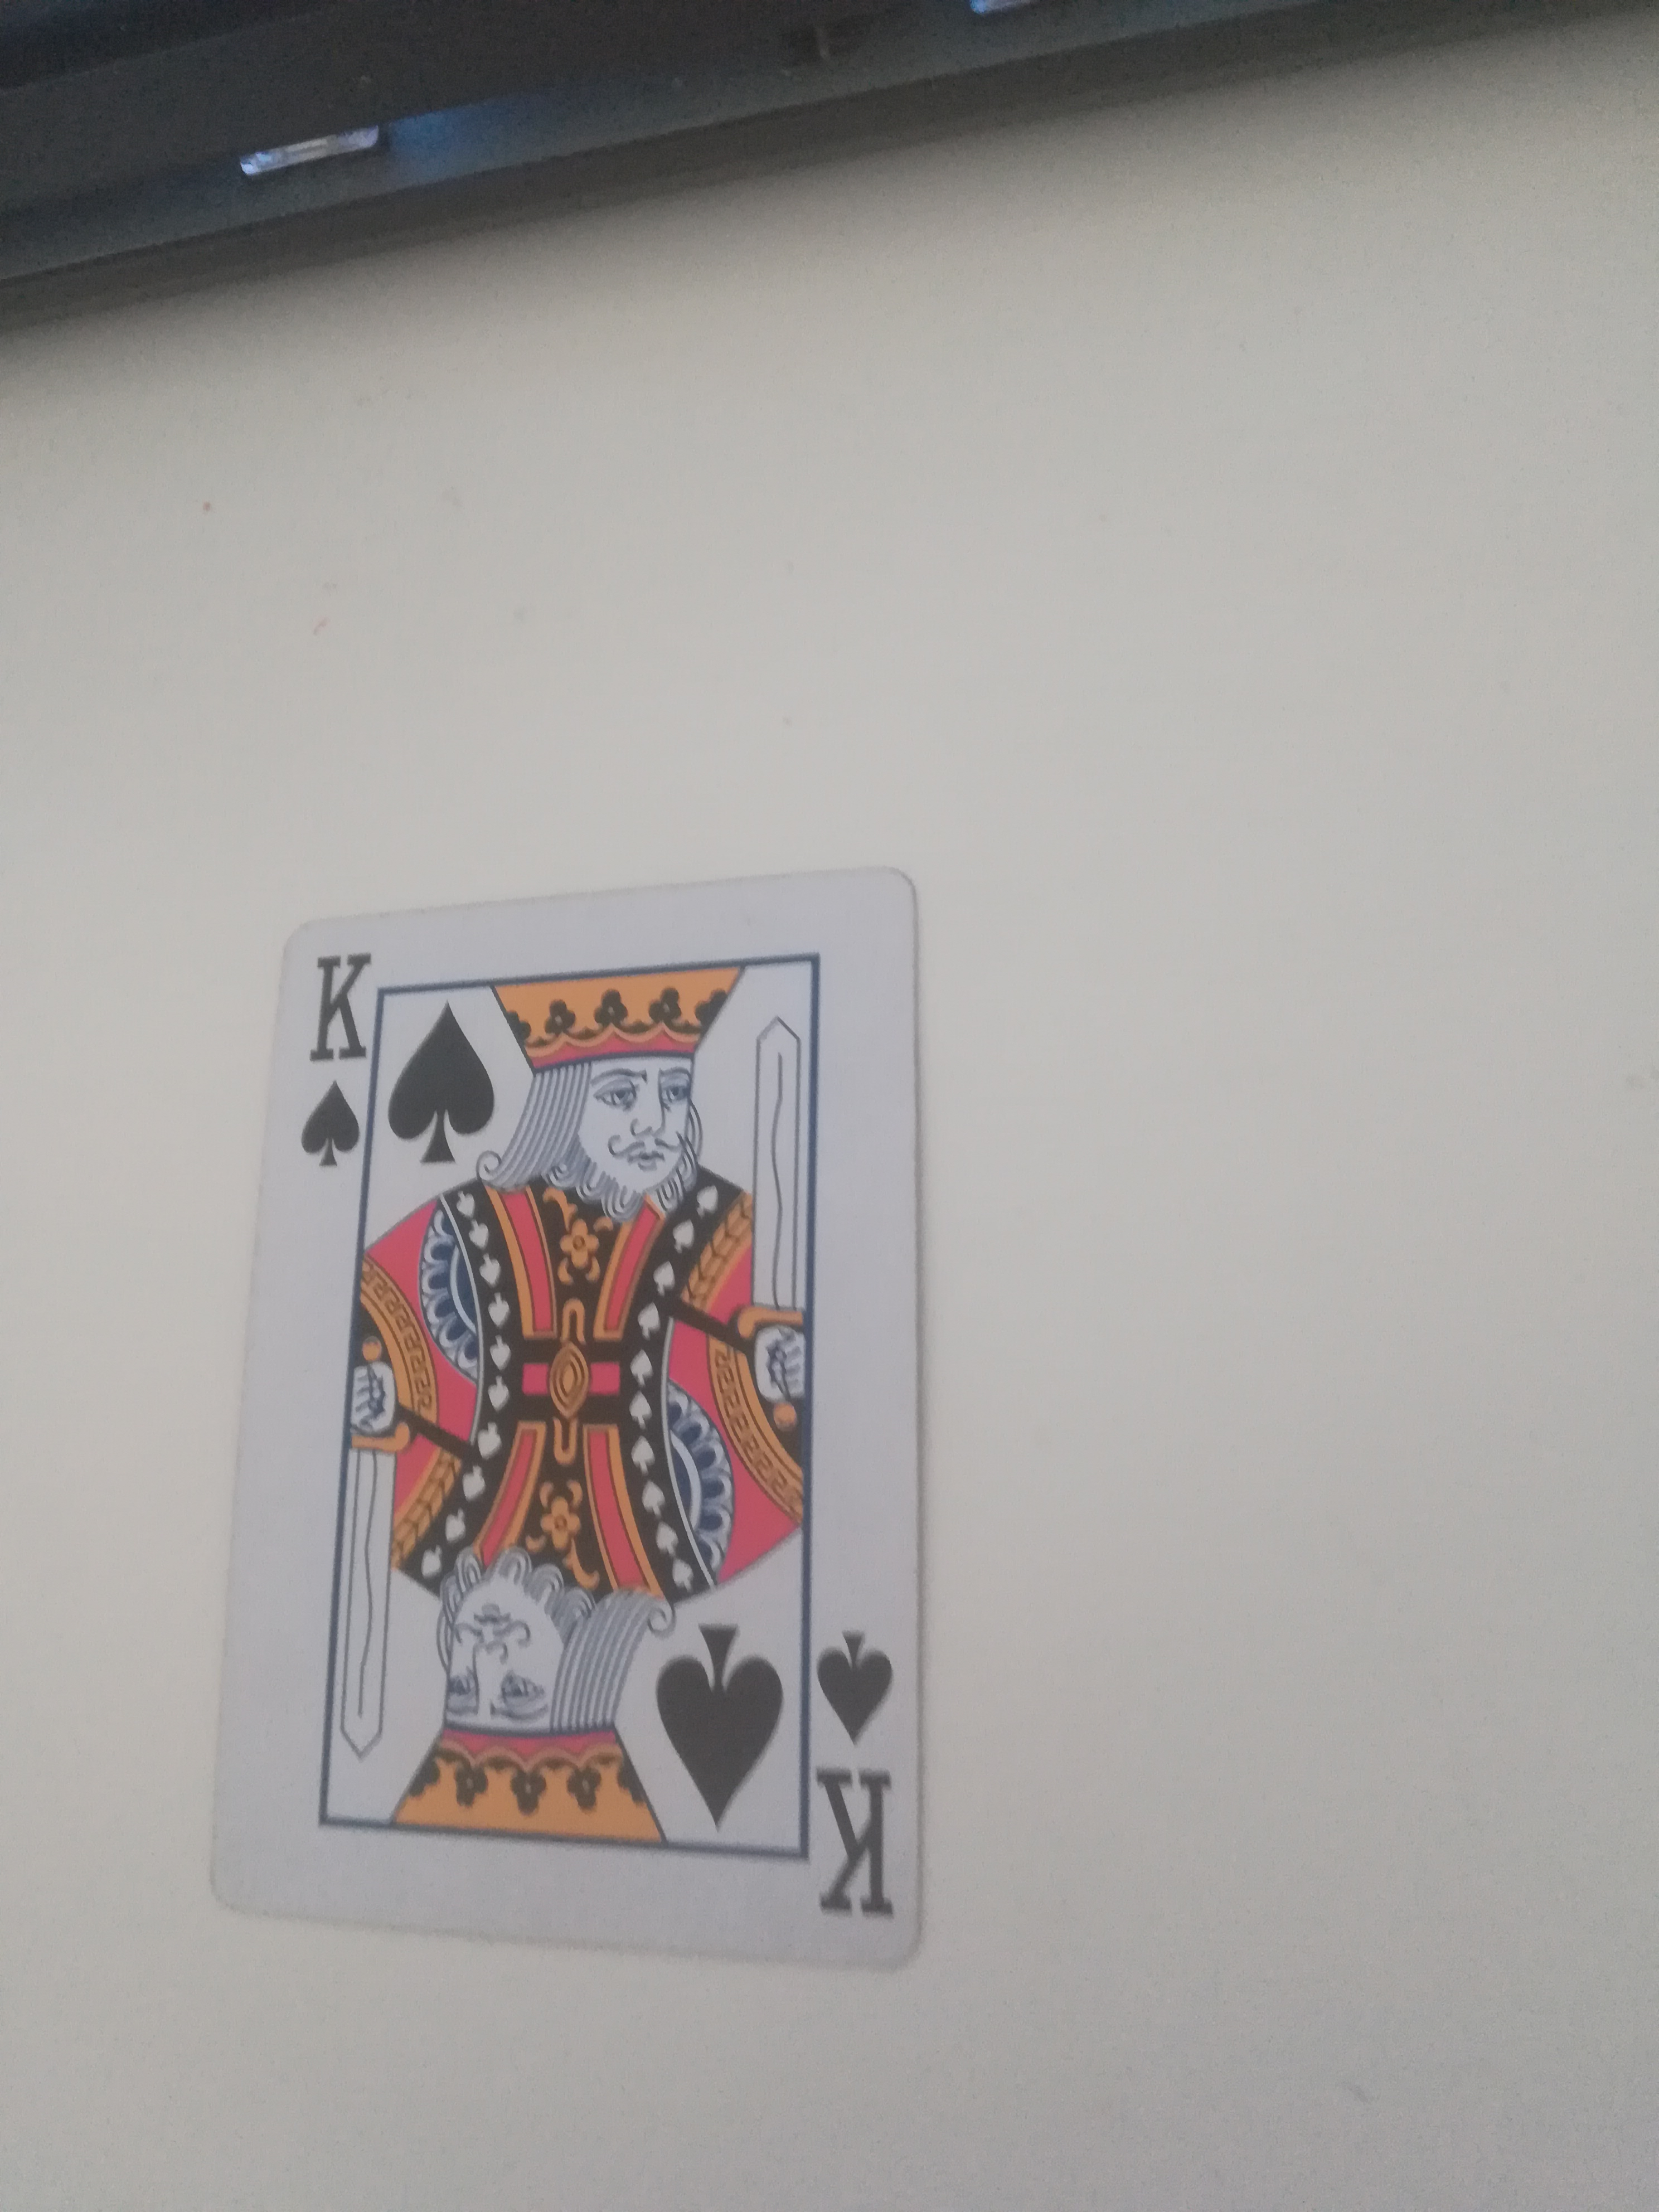KS: (207, 873, 939, 1998)
